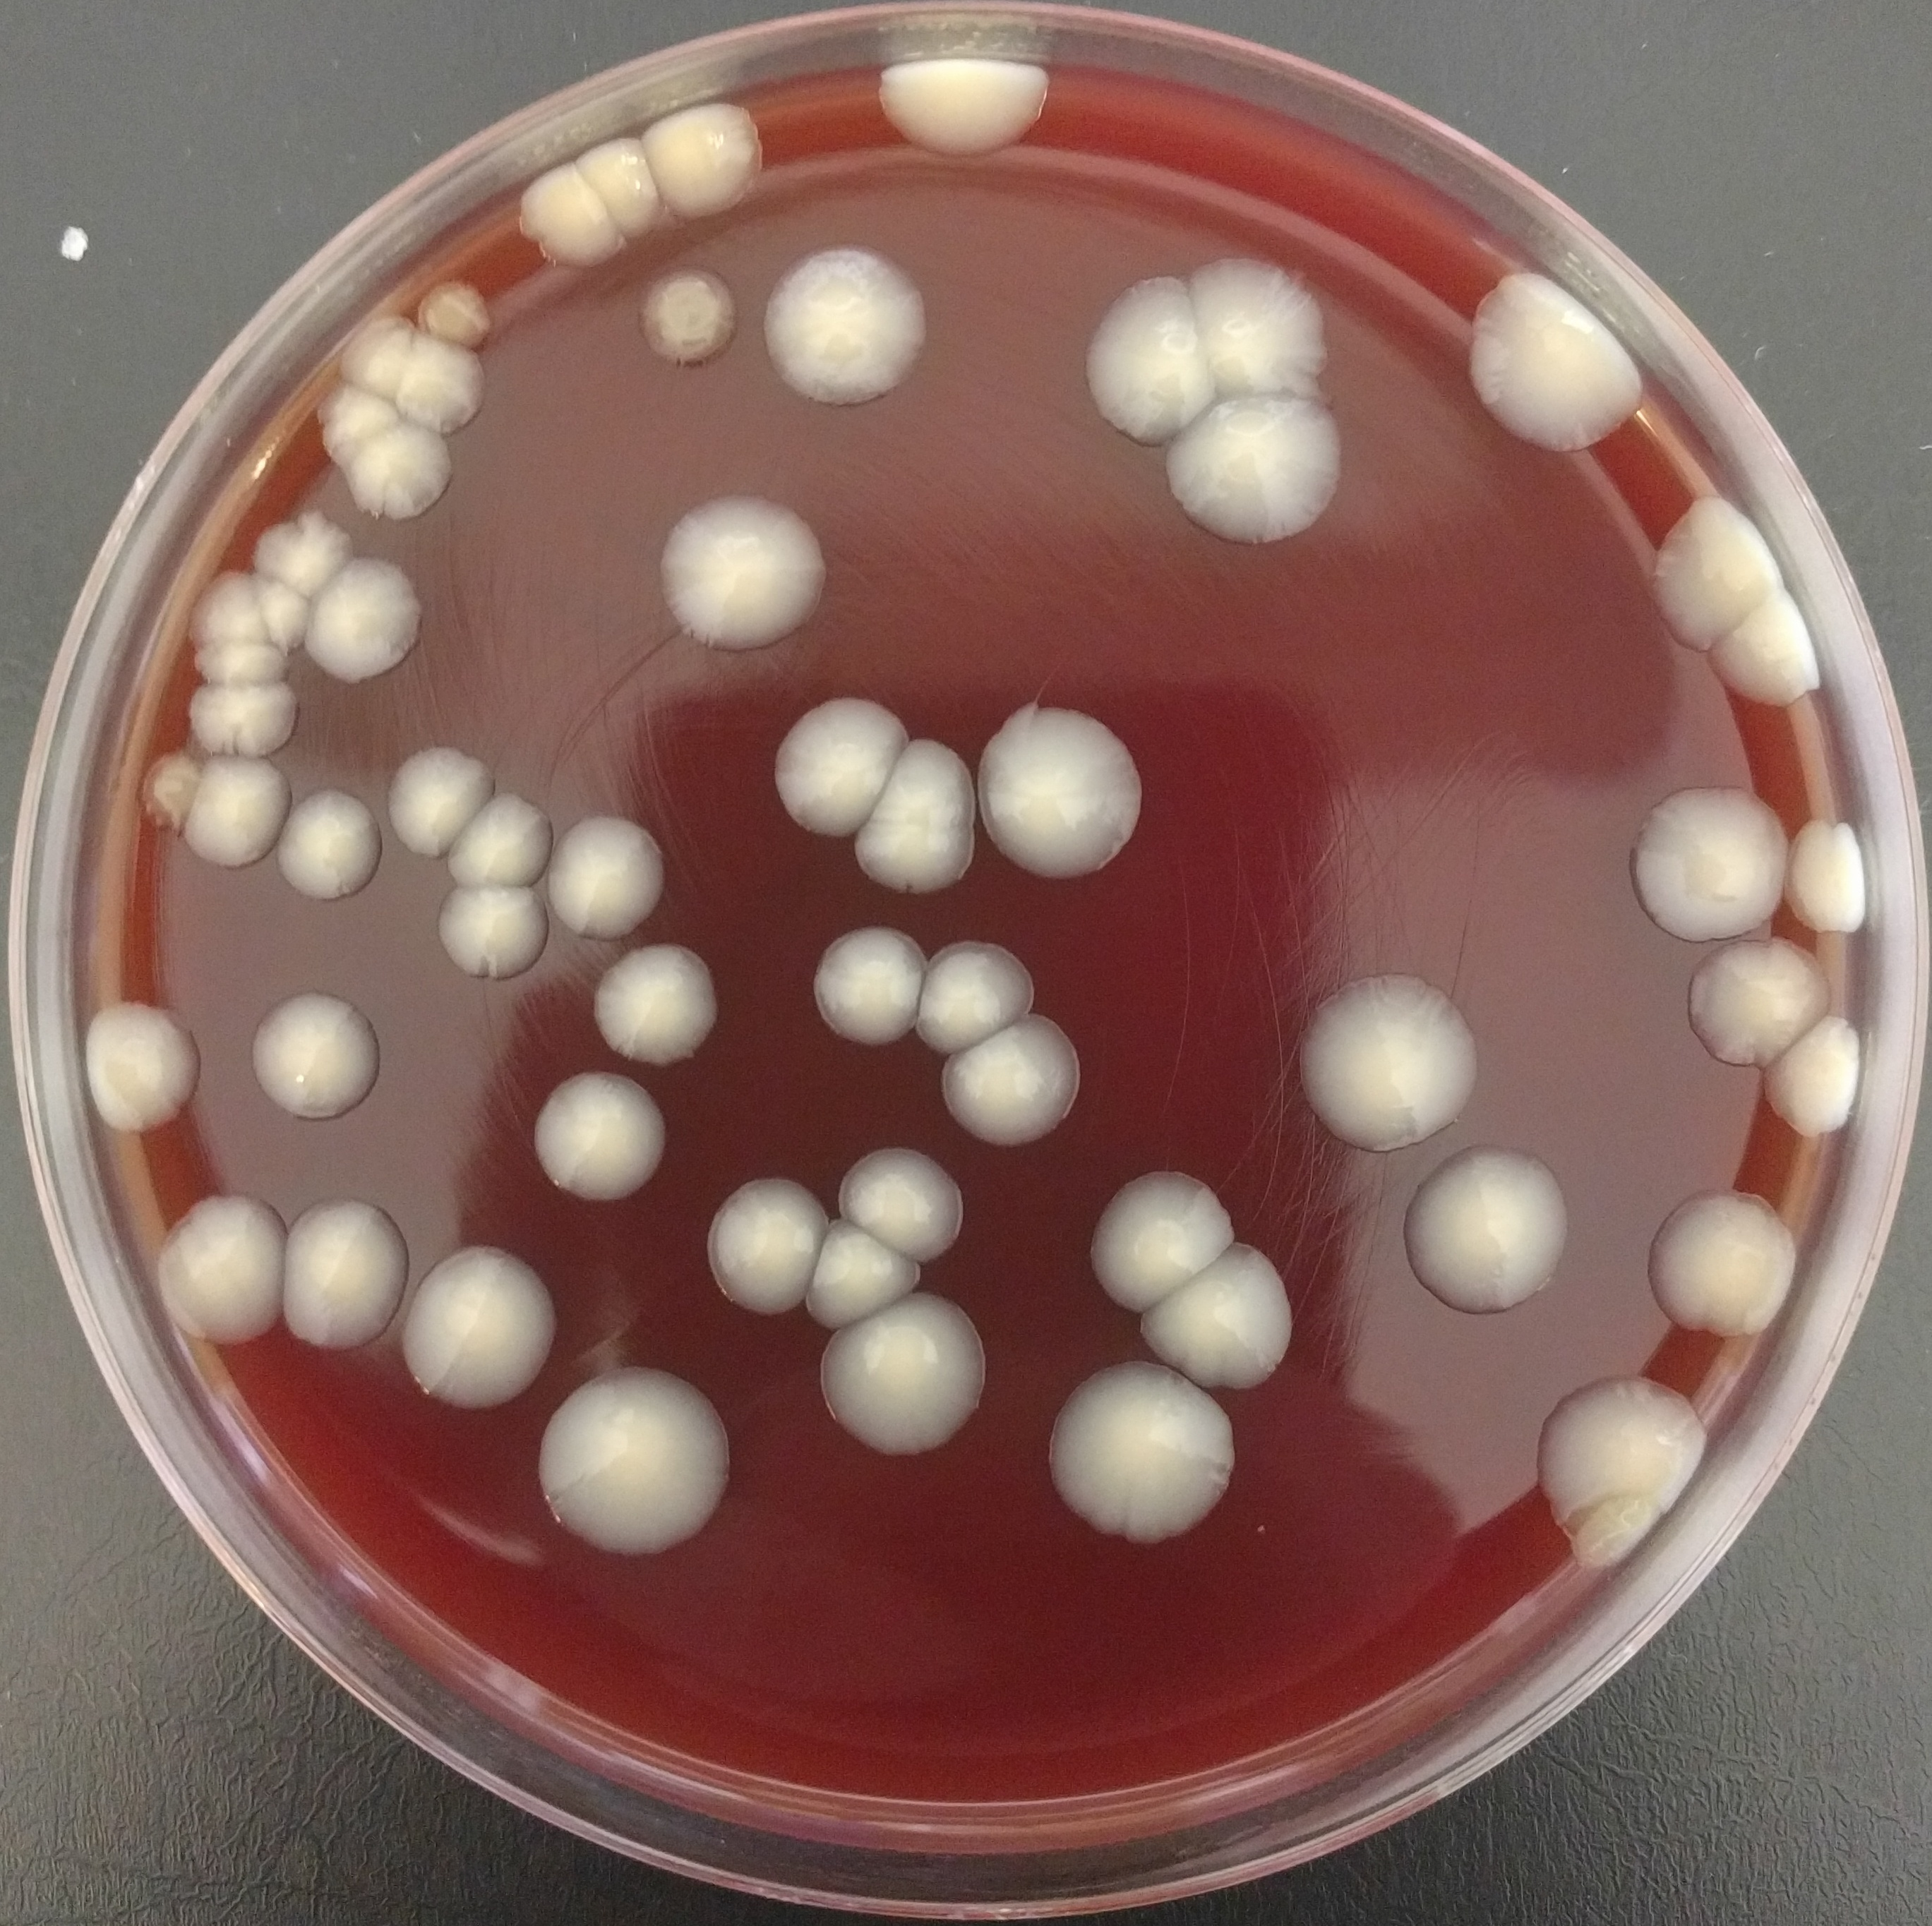sp05: (535, 1367, 738, 1559), (1464, 265, 1648, 462), (1045, 1358, 1242, 1542), (1535, 1376, 1710, 1573), (1299, 965, 1480, 1152), (815, 1289, 992, 1469), (981, 697, 1147, 887), (764, 240, 933, 413), (1401, 1139, 1569, 1314), (663, 481, 831, 653), (1163, 399, 1343, 552), (1639, 1180, 1805, 1342), (408, 1242, 556, 1409), (1082, 261, 1216, 443), (868, 42, 1067, 160), (1142, 1249, 1302, 1395), (1646, 492, 1787, 656), (154, 1185, 286, 1360), (1636, 787, 1786, 937), (249, 986, 392, 1138), (1089, 1166, 1235, 1310), (939, 1012, 1087, 1152), (1687, 933, 1826, 1074), (535, 1067, 670, 1210), (1202, 252, 1334, 399), (286, 1194, 408, 1349), (775, 693, 907, 834), (704, 1168, 824, 1321), (86, 997, 206, 1134), (550, 806, 667, 947), (593, 944, 723, 1067), (303, 556, 423, 683), (836, 1141, 965, 1259), (812, 919, 926, 1051), (640, 102, 766, 222), (1701, 594, 1828, 704), (805, 1215, 925, 1330), (921, 938, 1037, 1055), (182, 757, 296, 875), (273, 788, 383, 903), (1764, 1018, 1868, 1136), (515, 160, 619, 277), (388, 741, 496, 852), (857, 728, 977, 827), (635, 263, 743, 370), (434, 885, 554, 981), (348, 418, 455, 524), (402, 325, 490, 439), (443, 788, 547, 884), (573, 134, 663, 243), (1791, 811, 1867, 933), (256, 506, 355, 596), (856, 824, 979, 894), (182, 684, 300, 757), (309, 381, 397, 459), (333, 314, 413, 393), (415, 268, 496, 340), (131, 750, 201, 831), (189, 566, 265, 638), (192, 642, 296, 686), (256, 573, 314, 649)
